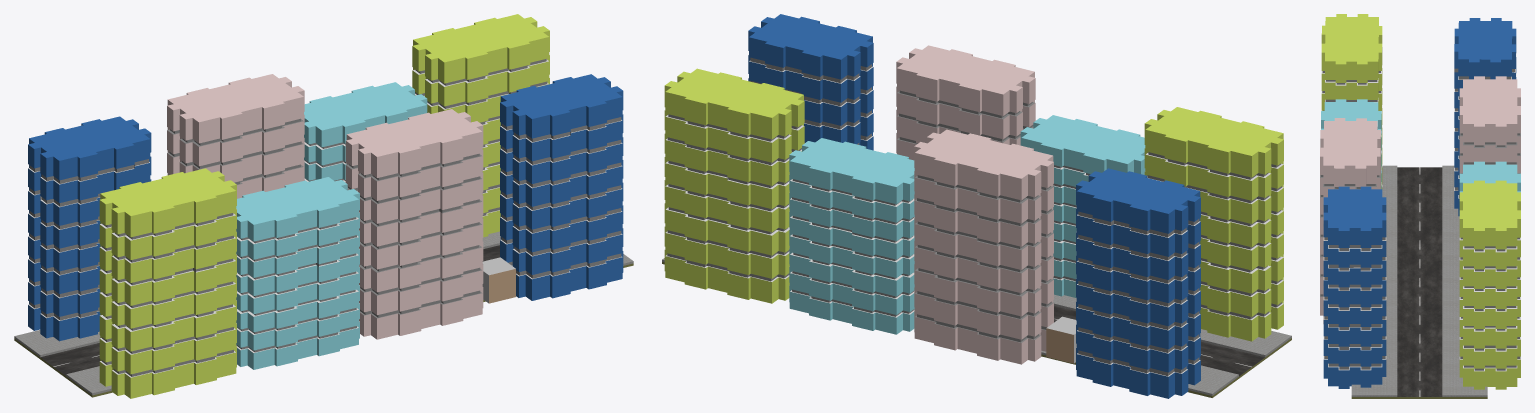
Rendered from urban city.fbx.
3 renders of one model, left to right at view 1: azimuth 30°, elevation 25°; view 2: azimuth 150°, elevation 25°; view 3: azimuth 270°, elevation 25°, orthographic. The views are drawn at different scales.
Visible parts, largest first — view 1: Plane.002; view 2: Plane.002; view 3: Plane.002.
Part boxes in pixels (left/top/right/bottom): Plane.002: left=14, top=14, right=633, bottom=398; Plane.002: left=662, top=14, right=1291, bottom=398; Plane.002: left=1320, top=14, right=1520, bottom=398.
Size of the model in its own units: 4000 by 1319 by 1480.
